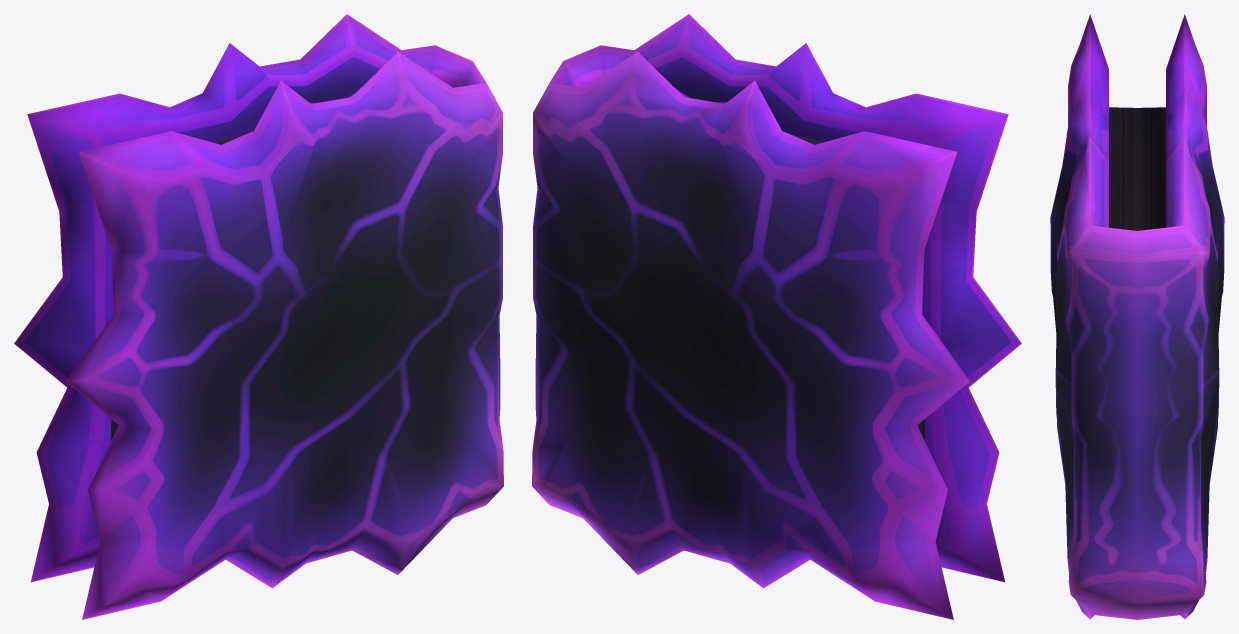
The model's file is item_weabokmgm2501-et01.glb.
3 views of the same model, side by side, from view 1: azimuth 30°, elevation 25°; view 2: azimuth 150°, elevation 25°; view 3: azimuth 270°, elevation 25° (orthographic). The views are drawn at different scales.
Visible parts, largest first — view 1: FlyffMesh; view 2: FlyffMesh; view 3: FlyffMesh.
Part boxes in pixels (box(x1,y1,x2,y2)): FlyffMesh: box(14, 14, 503, 619); FlyffMesh: box(532, 14, 1021, 619); FlyffMesh: box(1050, 14, 1224, 619).
Bounding box in the file's own units: 0.5095 × 0.57 × 0.1864.
Materials: 1 (1 with a texture image).
